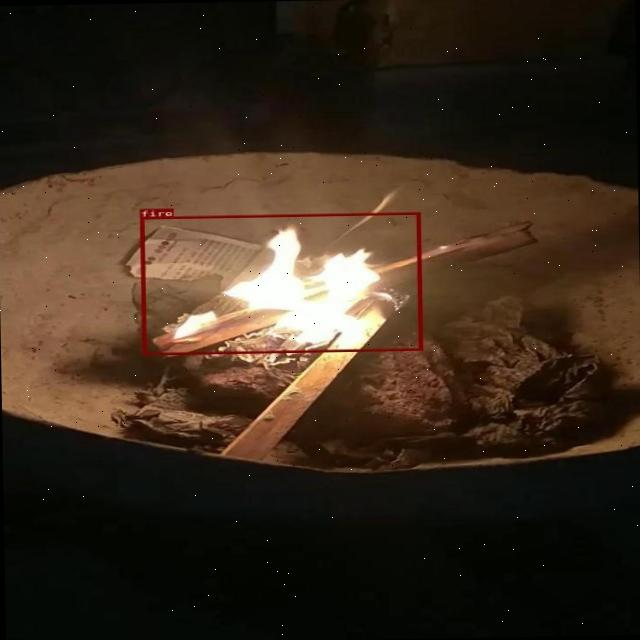fire: (140, 211, 422, 354)
